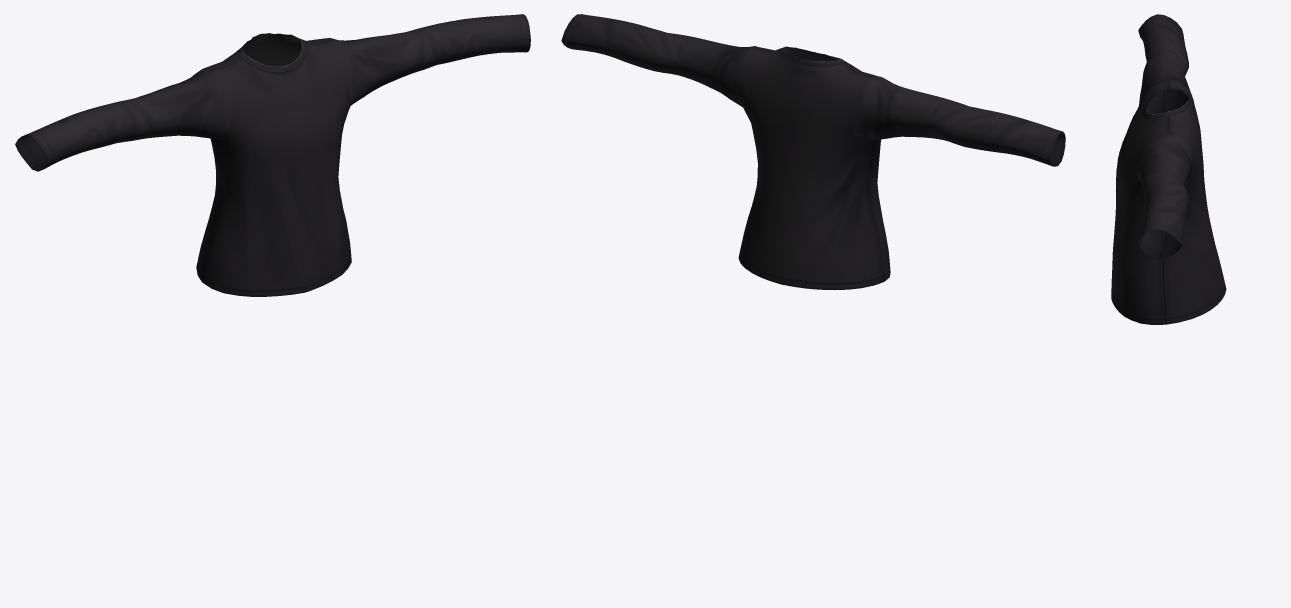
The model's file is longsleeve_tpose.glb.
3 renders of one model, left to right at view 1: azimuth 30°, elevation 25°; view 2: azimuth 150°, elevation 25°; view 3: azimuth 270°, elevation 25°, orthographic. The views are drawn at different scales.
Visible parts, largest first — view 1: longsleeve; view 2: longsleeve; view 3: longsleeve.
Part boxes in pixels (left/top/right/bottom): longsleeve: left=15, top=14, right=530, bottom=296; longsleeve: left=561, top=14, right=1065, bottom=290; longsleeve: left=1111, top=14, right=1226, bottom=324.
Bounding box in the file's own units: 1.35 × 1.37 × 0.4744.
1 material, 1 textured.
